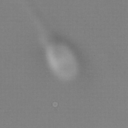normal: (18, 1, 53, 47)
